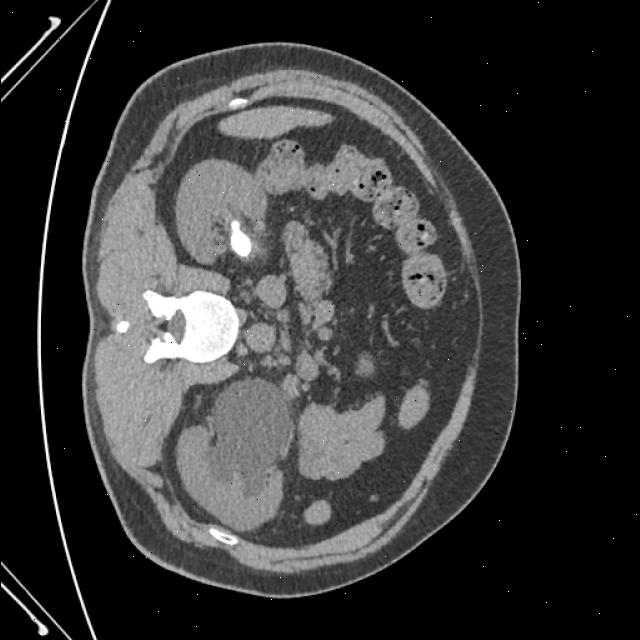kidneystone: (230, 221, 251, 258)
